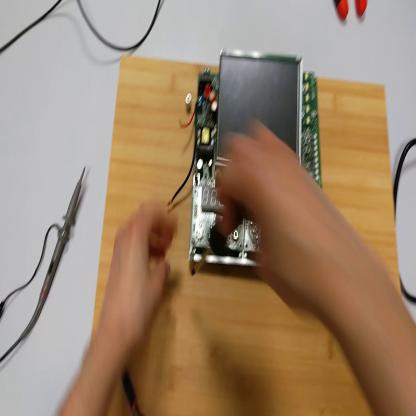hand: (213, 116, 324, 310), (100, 201, 177, 353)
low voltage board: (174, 44, 328, 261)
oscilloscope probe tip: (22, 166, 87, 340)
pliers: (122, 370, 140, 414), (334, 2, 369, 24)
screwdriver-: (196, 206, 245, 266)
working area: (93, 51, 405, 416)
